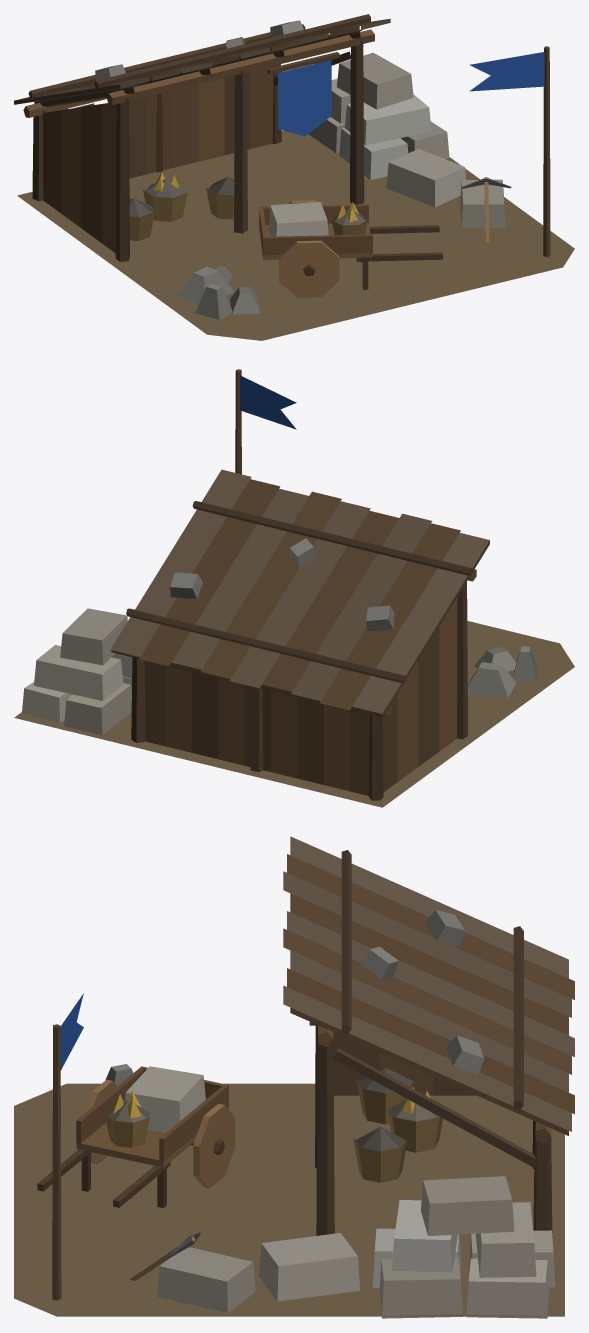
The model's file is mining-camp.glb.
3 views of the same model, one above another, from view 1: azimuth 30°, elevation 25°; view 2: azimuth 150°, elevation 25°; view 3: azimuth 270°, elevation 25° (orthographic). The views are drawn at different scales.
Parts seen in each view (by area): view 1: mining-camp; view 2: mining-camp; view 3: mining-camp.
Boxes of the visible parts, x1,y1,x2,y2 form: mining-camp: (14, 14, 574, 340); mining-camp: (14, 369, 574, 807); mining-camp: (14, 836, 574, 1318).
Bounding box in the file's own units: 5.5 × 3.02 × 5.54.
